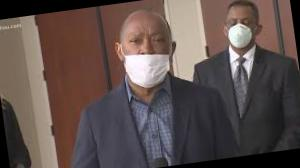mask_weared_incorrect: (121, 20, 174, 90)
with_mask: (225, 13, 255, 50)
